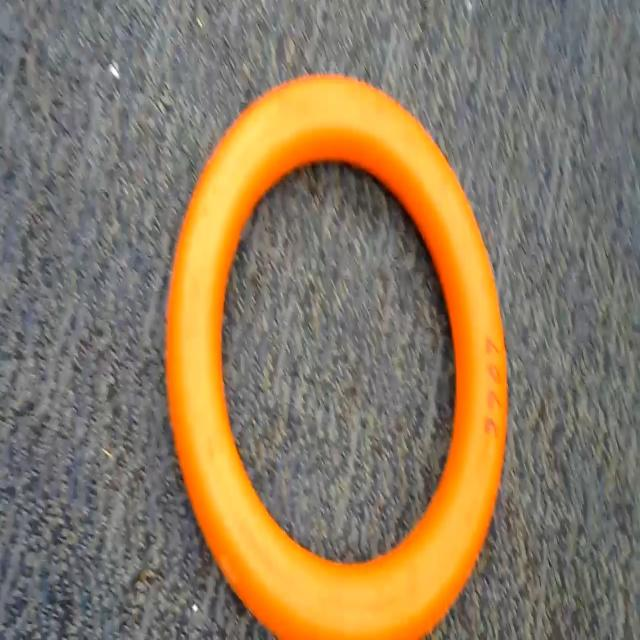note: (172, 64, 538, 640)
